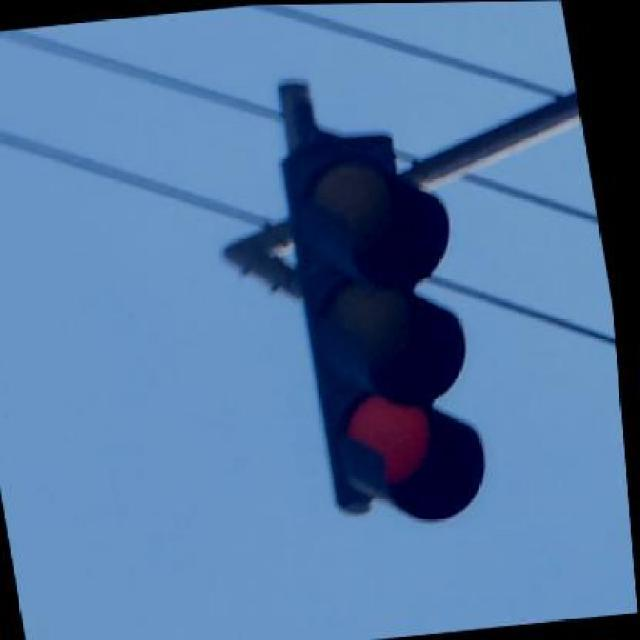red_light: (223, 80, 482, 517)
